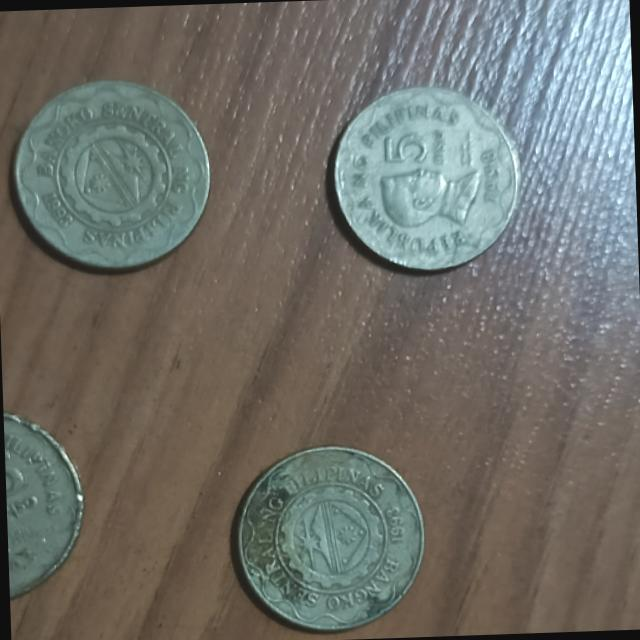5_peso: (14, 81, 208, 268), (333, 87, 517, 268), (238, 447, 422, 628), (4, 413, 82, 598)
